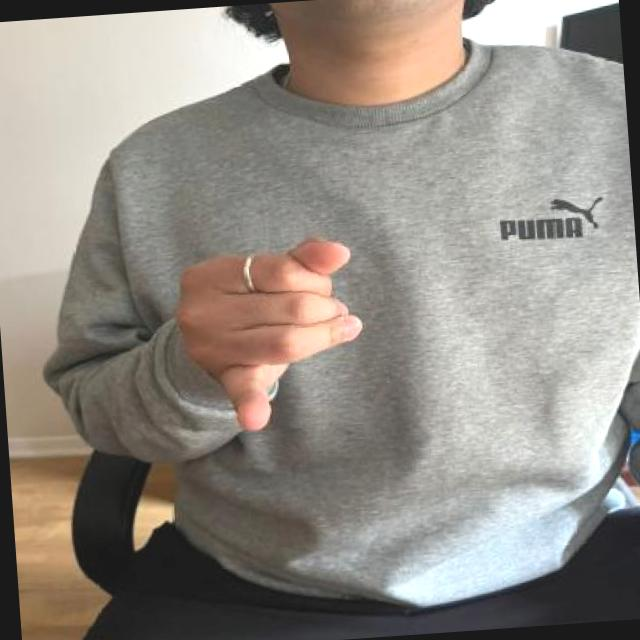Z: (166, 220, 380, 437)
